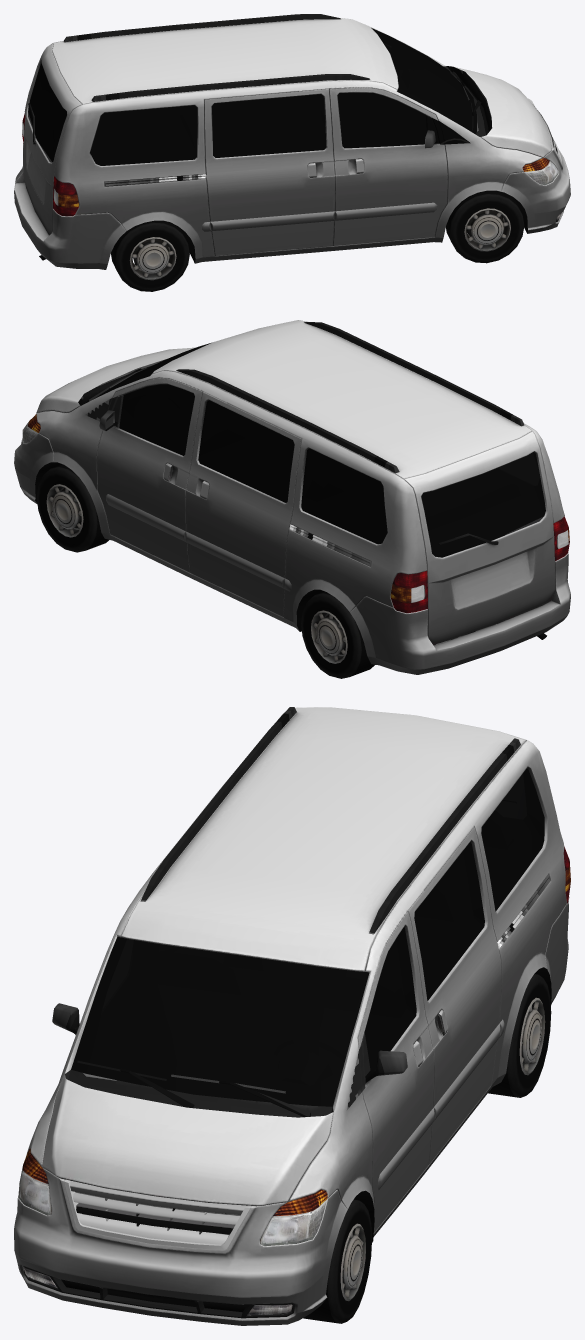
File: utilitario.glb
The picture shows the model from 3 angles, top to bottom: view 1: azimuth 30°, elevation 25°; view 2: azimuth 150°, elevation 25°; view 3: azimuth 270°, elevation 25°; orthographic projection. The views are drawn at different scales.
Visible parts, largest first — view 1: minivan body, Wheel_D002, Wheel_D003; view 2: minivan body, Wheel_D001, Wheel_D; view 3: minivan body, Wheel_D, Wheel_D001.
Boxes of the visible parts, box(x1,y1,x2,y2) form: minivan body: box(14, 14, 570, 269); Wheel_D002: box(446, 190, 524, 263); Wheel_D003: box(111, 220, 189, 291); minivan body: box(14, 320, 570, 674); Wheel_D001: box(301, 591, 374, 678); Wheel_D: box(37, 464, 108, 552); minivan body: box(14, 707, 570, 1325); Wheel_D: box(303, 1199, 372, 1323); Wheel_D001: box(488, 974, 551, 1097).
Size of the model in its own units: 4.62 by 1.76 by 2.81.
Materials: 4 (3 with a texture image).
